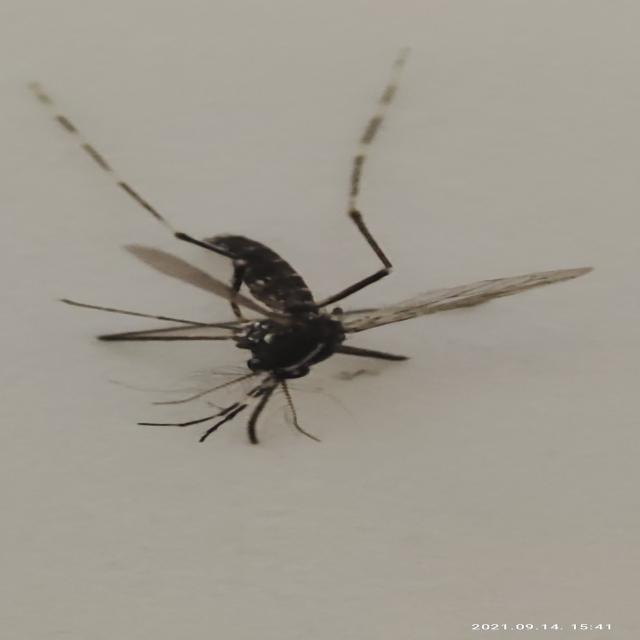albopictus: (39, 62, 580, 455)
